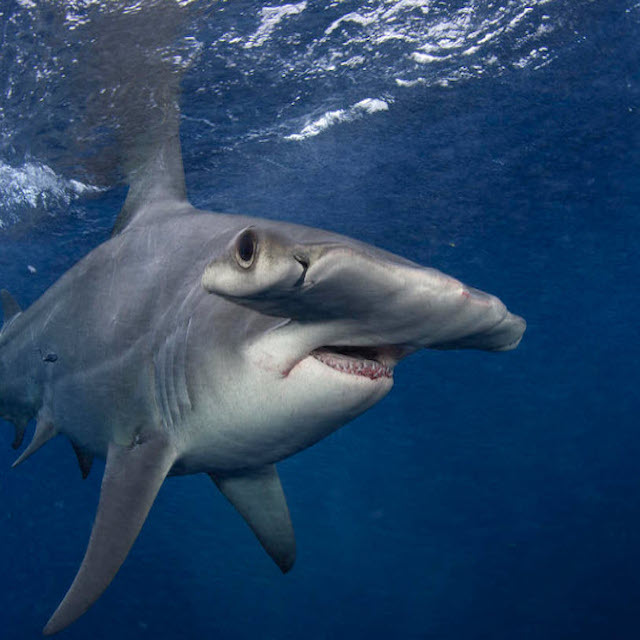hammerhead: (4, 137, 522, 580)
